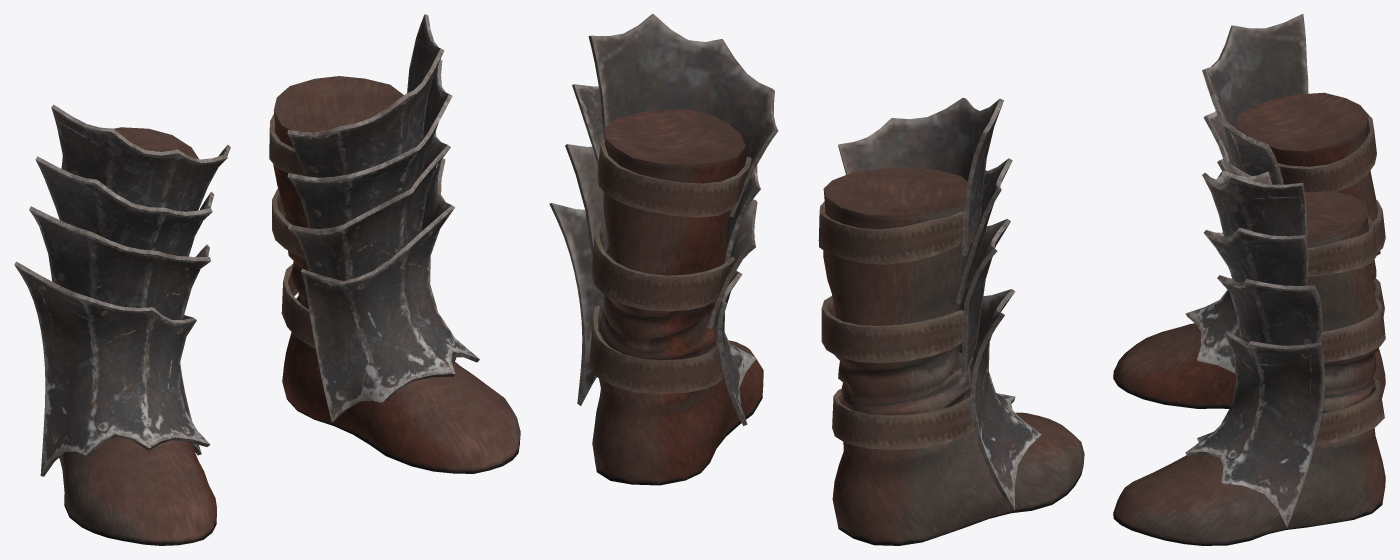
Rendered from sk_dg_uruk_boots_elite_c.fbx.
3 renders of one model, left to right at view 1: azimuth 30°, elevation 25°; view 2: azimuth 150°, elevation 25°; view 3: azimuth 270°, elevation 25°, orthographic. The views are drawn at different scales.
Parts seen in each view (by area): view 1: sk_dg_uruk_boots_elite_c.0, sk_dg_uruk_boots_elite_c.1; view 2: sk_dg_uruk_boots_elite_c.0, sk_dg_uruk_boots_elite_c.1; view 3: sk_dg_uruk_boots_elite_c.0, sk_dg_uruk_boots_elite_c.1.
Boxes of the visible parts, <box> form: sk_dg_uruk_boots_elite_c.0: <box>14,14,520,545</box>; sk_dg_uruk_boots_elite_c.1: <box>61,114,315,348</box>; sk_dg_uruk_boots_elite_c.0: <box>549,14,1084,545</box>; sk_dg_uruk_boots_elite_c.1: <box>589,133,974,449</box>; sk_dg_uruk_boots_elite_c.0: <box>1113,14,1385,545</box>; sk_dg_uruk_boots_elite_c.1: <box>1278,110,1385,444</box>.
Bounding box in the file's own units: 0.572 × 0.3359 × 0.479.
Materials: 2 (2 with a texture image).
